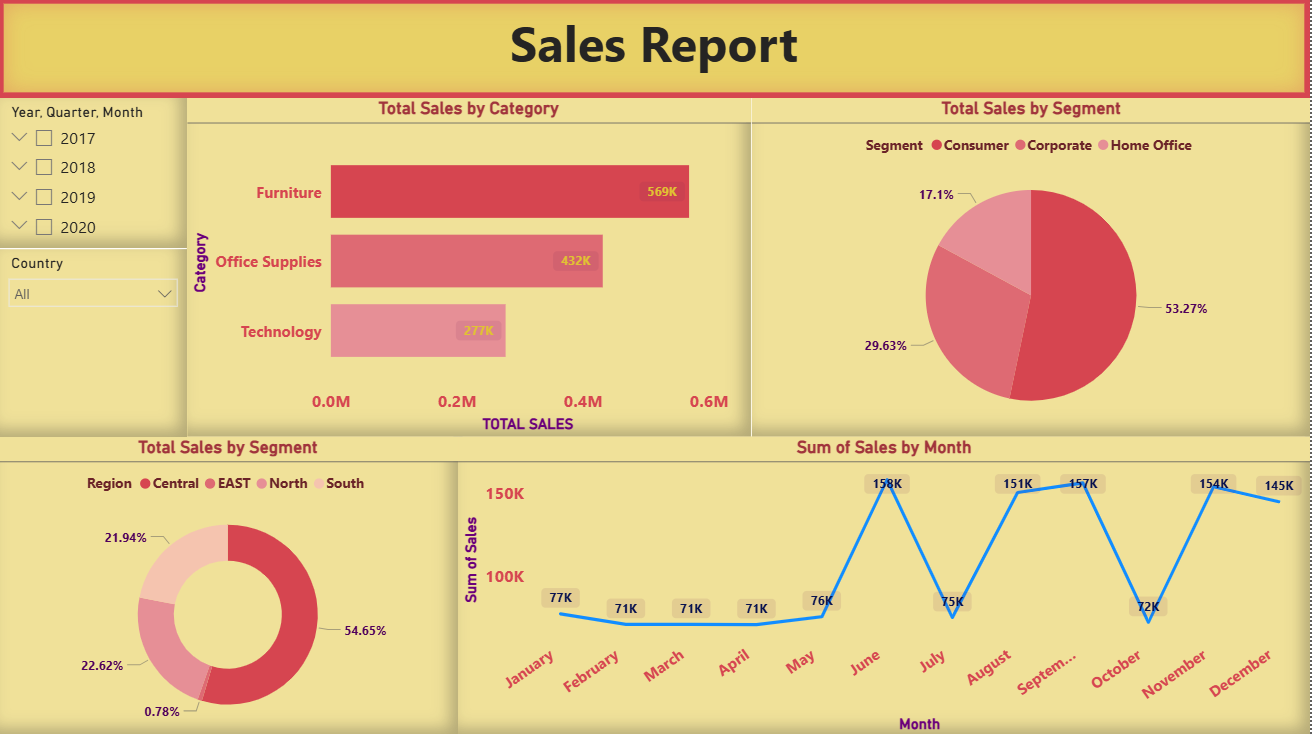

The page's visual inventory and layout, read from the dashboard file:
{"tool":"powerbi","page":{"name":"Sales","canvas":[1280,720],"ordinal":0},"visuals":[{"type":"textbox","box":[0,0,1280.3,97.8],"z":0},{"type":"barChart","title":"Total Sales by Category","fields":{"Category":["Orders.Category"],"Y":["Sum(Orders.Sales)"]},"box":[184.6,97.8,550.3,330.2],"z":1000},{"type":"pieChart","title":"Total Sales by Segment","fields":{"Category":["Orders.Segment"],"Y":["Sum(Orders.Sales)"]},"box":[734.9,97.8,545.4,330.2],"z":2000},{"type":"lineChart","fields":{"Category":["Orders.Order_Date.Variation.Date Hierarchy.Month"],"Y":["Sum(Orders.Sales)"]},"box":[448.8,428,831.5,292.3],"z":3000},{"type":"donutChart","title":"Total Sales by Segment","fields":{"Y":["Sum(Orders.Sales)"],"Series":["Orders.Region"]},"box":[0,428,448.8,292.3],"z":4000},{"type":"slicer","fields":{"Values":["Orders.Order_Date.Variation.Date Hierarchy.Year","Orders.Order_Date.Variation.Date Hierarchy.Quarter","Orders.Order_Date.Variation.Date Hierarchy.Month"]},"box":[0,97.8,184.6,146.7],"z":5000},{"type":"slicer","fields":{"Values":["Orders.Country"]},"box":[0,245,185,183],"z":6000}]}

Visuals, with their boxes in screenshot pixels (x1, y1, x2, y2), scaled from the page's 1280x720 canvas onto the 1312x734 screenshot:
textbox: (x1=0, y1=0, x2=1311, y2=100)
"Total Sales by Category" barChart: (x1=189, y1=100, x2=753, y2=436)
"Total Sales by Segment" pieChart: (x1=753, y1=100, x2=1311, y2=436)
lineChart - Orders.Order_Date.Variation.Date Hierarchy.Month x Sum(Orders.Sales): (x1=460, y1=436, x2=1311, y2=733)
"Total Sales by Segment" donutChart: (x1=0, y1=436, x2=460, y2=733)
slicer - Orders.Order_Date.Variation.Date Hierarchy.Year x Orders.Order_Date.Variation.Date Hierarchy.Quarter: (x1=0, y1=100, x2=189, y2=249)
slicer - Orders.Country: (x1=0, y1=250, x2=190, y2=436)
